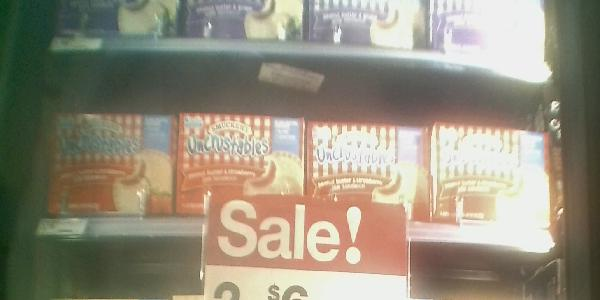icecream: (308, 110, 435, 236), (43, 110, 179, 221), (184, 104, 302, 224), (434, 122, 552, 234)
